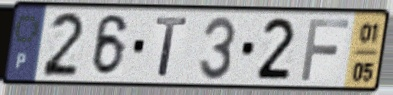2: (42, 9, 87, 80), (255, 16, 299, 84)
3: (197, 14, 238, 82)
6: (88, 13, 131, 79)
F: (298, 17, 352, 83)
T: (153, 15, 191, 79)
